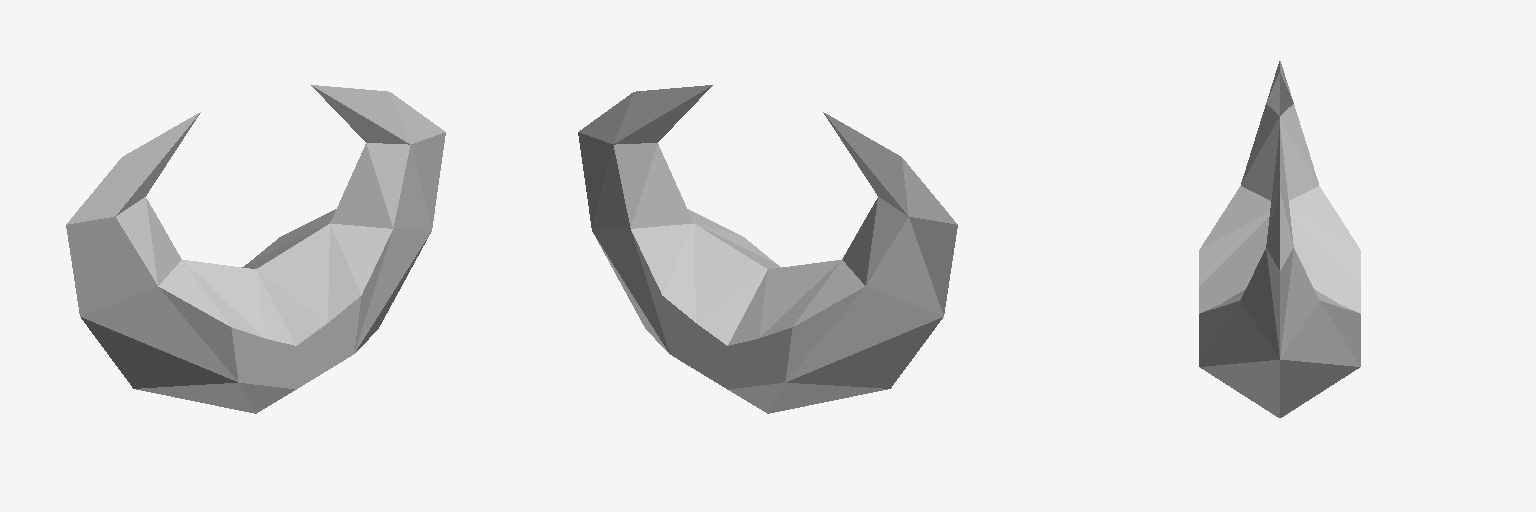
File: xenon_foot_gem.obj
3 renders of one model, left to right at view 1: azimuth 30°, elevation 25°; view 2: azimuth 150°, elevation 25°; view 3: azimuth 270°, elevation 25°, orthographic.
Parts seen in each view (by area): view 1: XenonFootGem; view 2: XenonFootGem; view 3: XenonFootGem.
Boxes of the visible parts, <box> form: XenonFootGem: <box>66,85,445,413</box>; XenonFootGem: <box>578,85,957,413</box>; XenonFootGem: <box>1199,61,1360,417</box>.
Size of the model in its own units: 2.17 by 1.73 by 0.8.